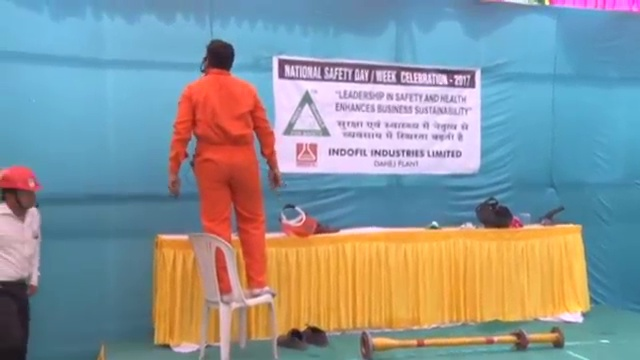helmet: (1, 160, 45, 195)
helmet_off: (197, 38, 236, 72)
helmet_on: (1, 159, 45, 222)
person: (171, 34, 282, 294), (1, 159, 40, 360)
